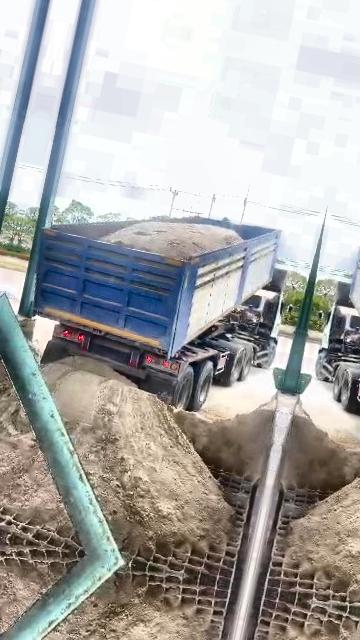sand: (44, 358, 231, 552), (0, 382, 66, 526), (174, 401, 274, 482), (101, 221, 242, 260), (0, 345, 7, 384)
